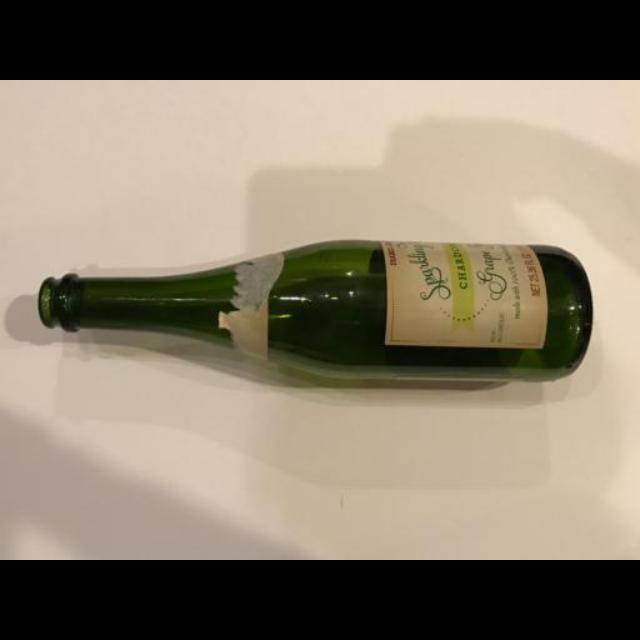garrafa de vidro: (35, 238, 597, 388)
